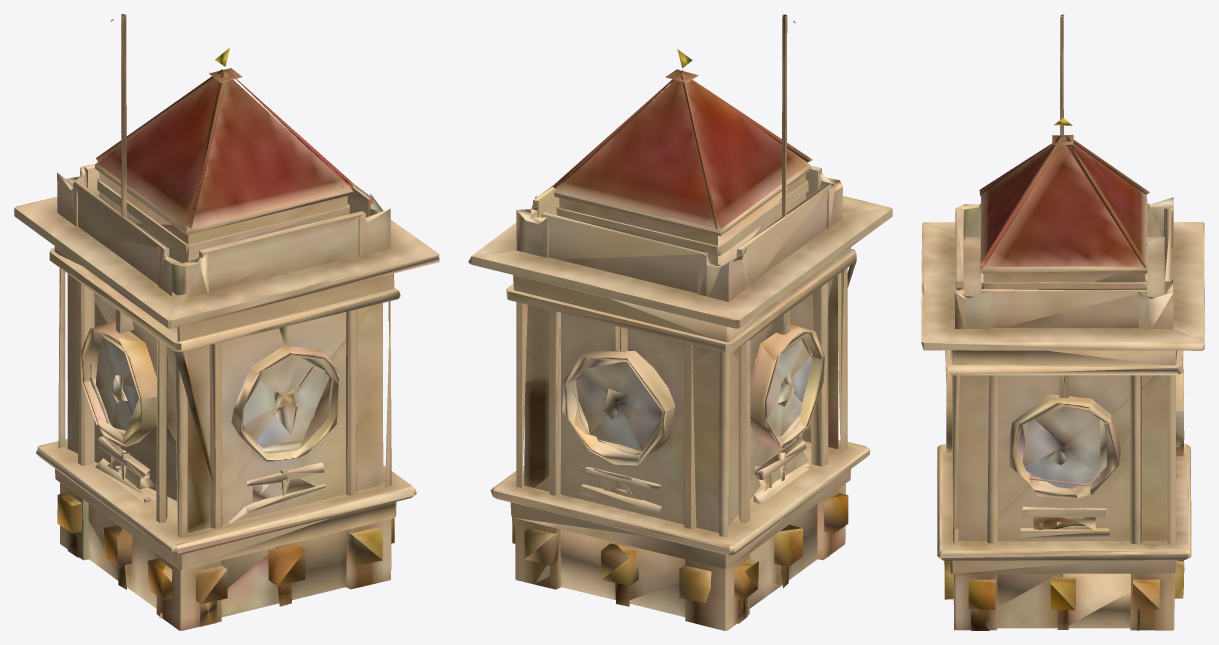
The model's file is clock-tower-top.lod2.glb.
3 views of the same model, side by side, from view 1: azimuth 30°, elevation 25°; view 2: azimuth 150°, elevation 25°; view 3: azimuth 270°, elevation 25° (orthographic). The views are drawn at different scales.
Bounding box in the file's own units: 4.25 × 8.53 × 4.2.
Materials: 1 (1 with a texture image).
